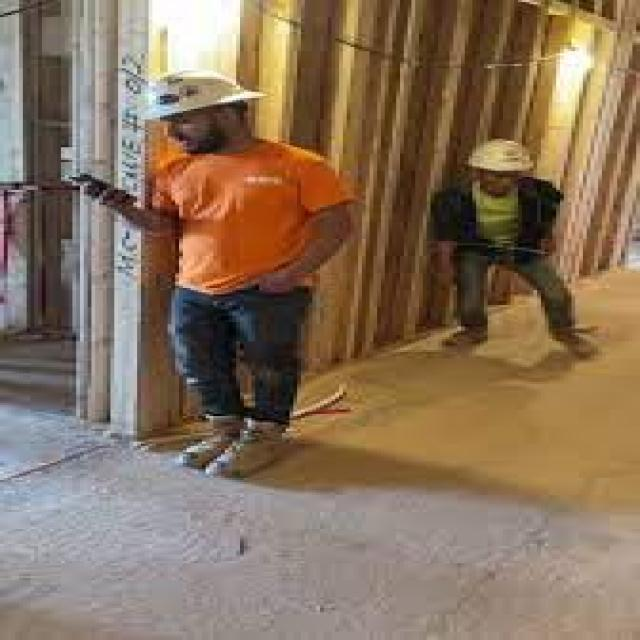Safety-Helmet: (127, 67, 270, 124), (454, 134, 548, 180)
